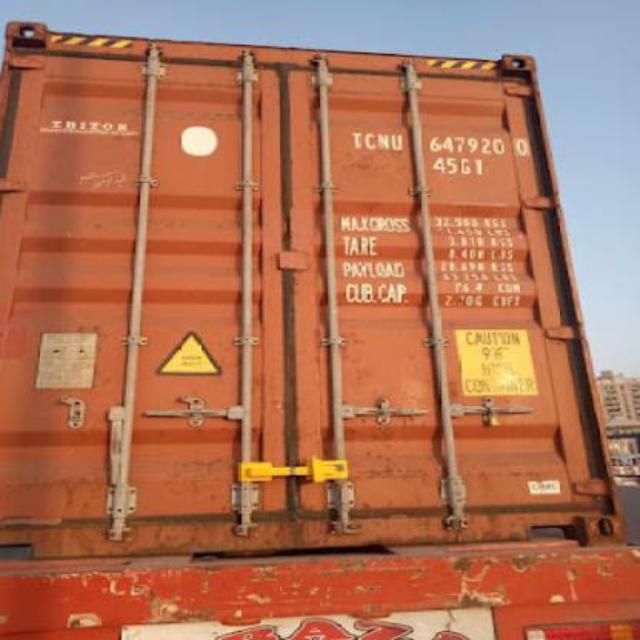0: (512, 138, 534, 164), (491, 128, 504, 156)
2: (478, 136, 494, 158)
4: (441, 132, 454, 156)
6: (426, 132, 442, 154)
7: (454, 128, 468, 158)
9: (466, 131, 482, 155)
C: (364, 127, 378, 153)
N: (376, 124, 388, 158)
T: (351, 126, 364, 154)
U: (390, 128, 406, 156)
